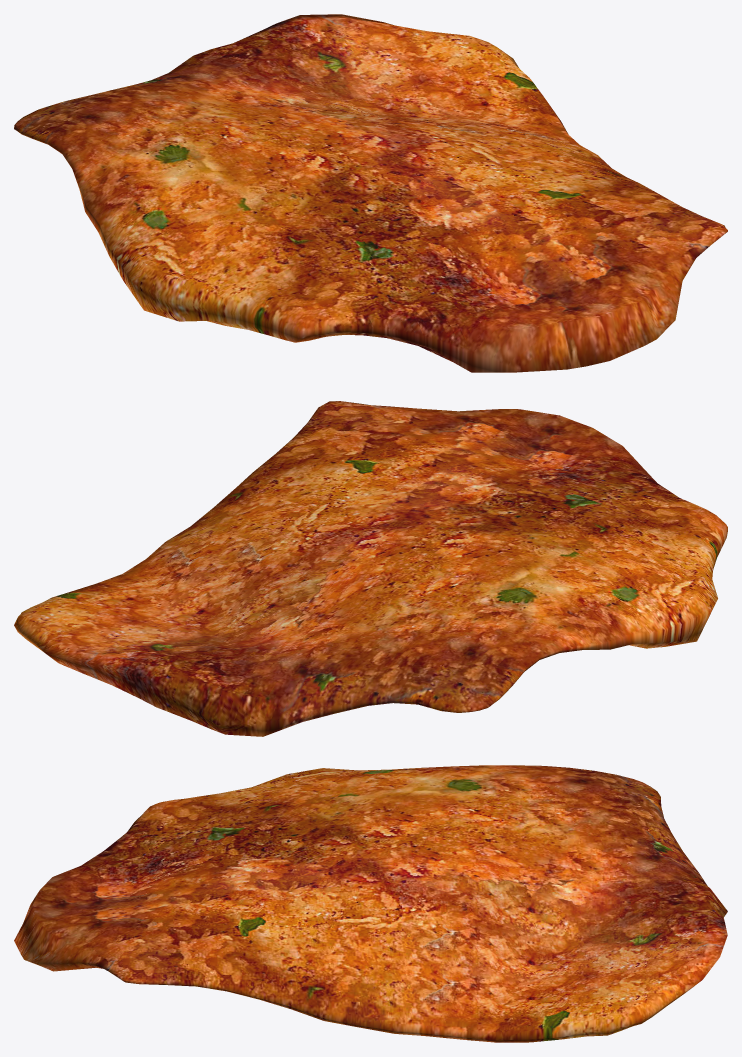
Rendered from porkChop.fbx.
The picture shows the model from 3 angles, top to bottom: view 1: azimuth 30°, elevation 25°; view 2: azimuth 150°, elevation 25°; view 3: azimuth 270°, elevation 25°; orthographic projection. The views are drawn at different scales.
Parts seen in each view (by area): view 1: Cube; view 2: Cube; view 3: Cube.
Part boxes in pixels (x1,y1,x2,y2): Cube: [14, 14, 727, 372]; Cube: [14, 401, 727, 736]; Cube: [14, 765, 727, 1042].
Size of the model in its own units: 176 by 31.81 by 221.
